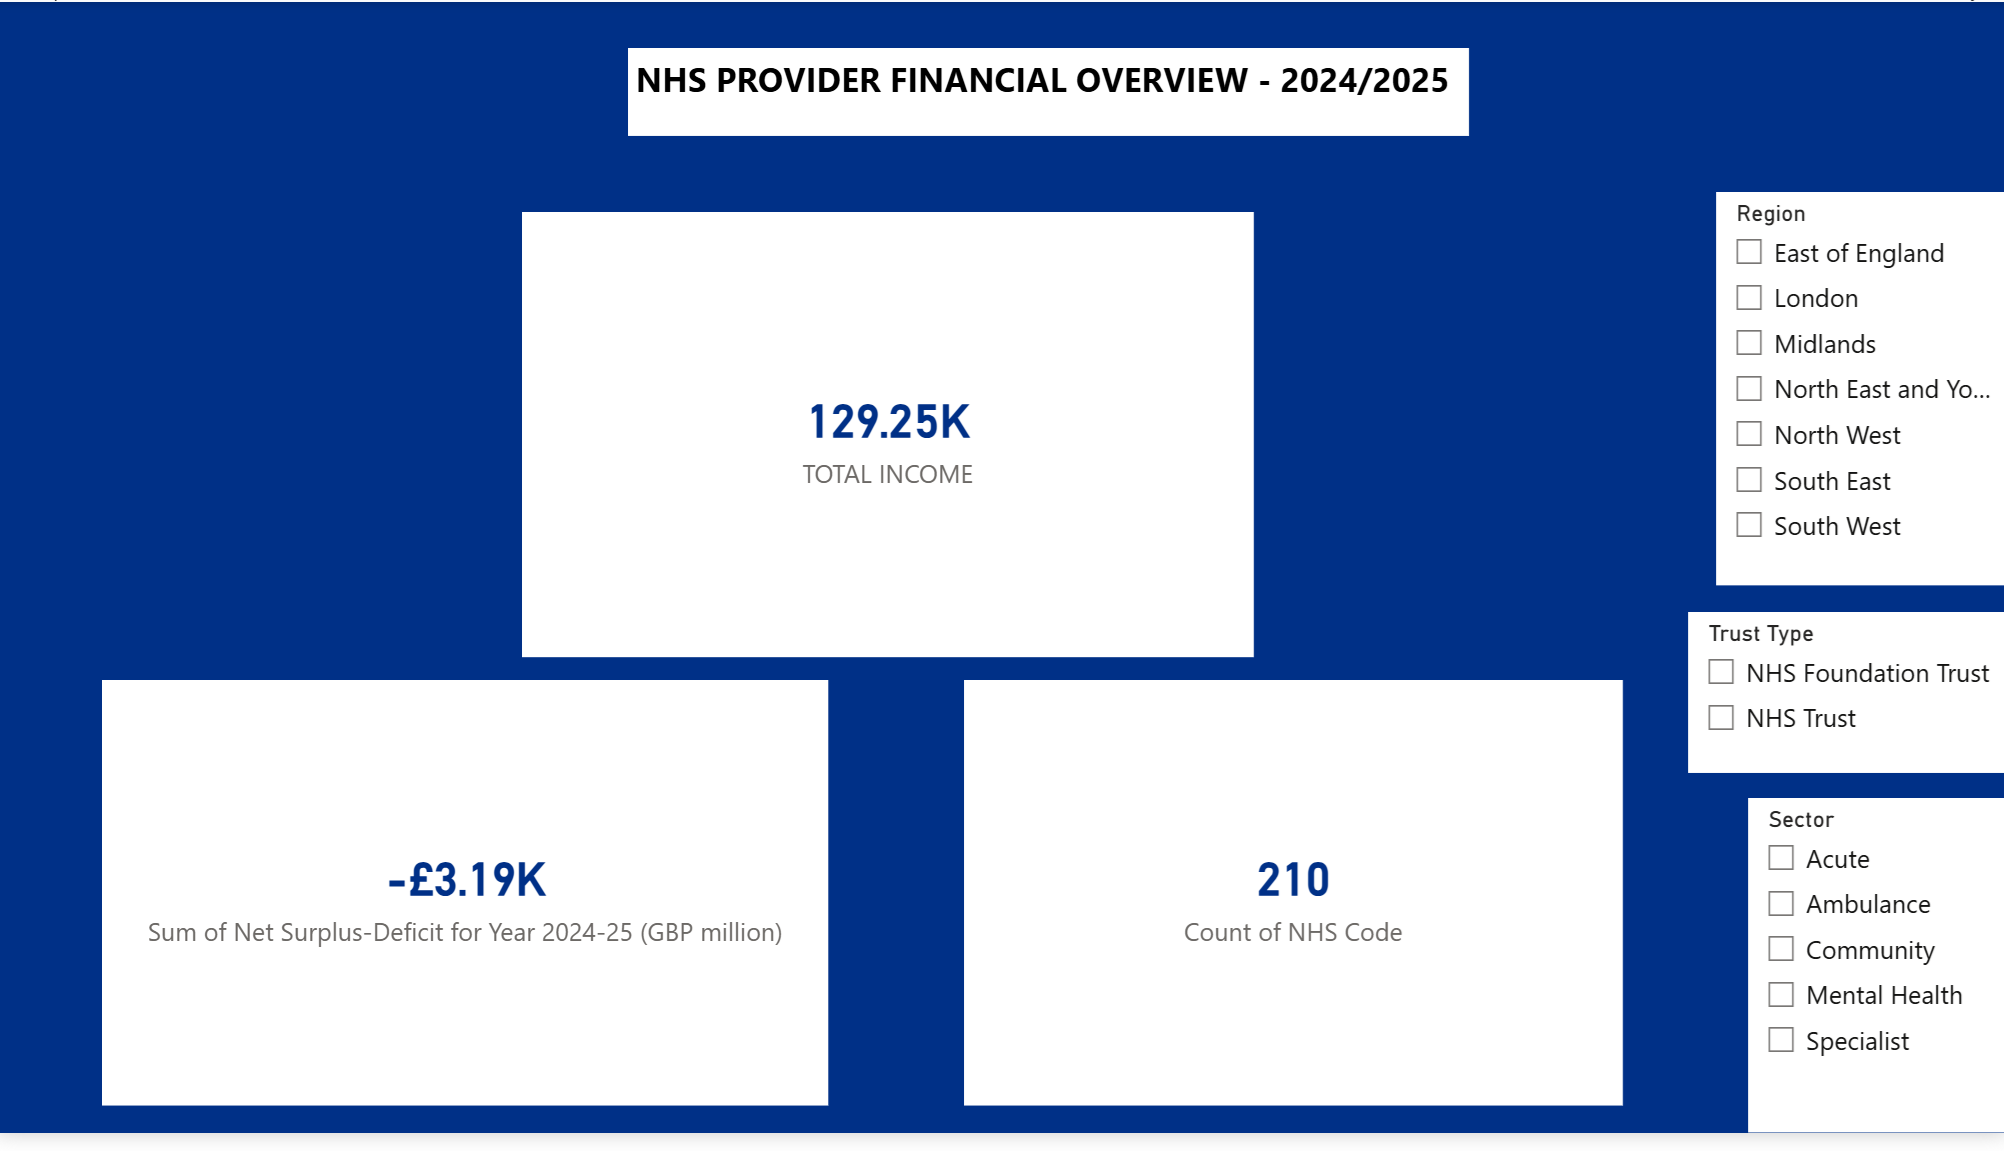

The page's visual inventory and layout, read from the dashboard file:
{"tool":"powerbi","page":{"name":"OVERVIEW","canvas":[1280,720],"ordinal":0},"visuals":[{"type":"card","fields":{"Values":["Sum(Summary by Trust.Net Surplus-Deficit for Year 2024-25 (GBP million))"]},"box":[68,432,462.6,271],"z":0},{"type":"card","fields":{"Values":["Income Statement Detail.TOTAL INCOME"]},"box":[334.5,133.8,466,283.4],"z":1000},{"type":"card","fields":{"Values":["Count(Summary by Trust.NHS Code)"]},"box":[616.8,432,419.5,271],"z":2000},{"type":"slicer","fields":{"Values":["Summary by Trust.Sector"]},"box":[1115.6,506.8,164.4,213.1],"z":3000},{"type":"slicer","fields":{"Values":["Summary by Trust.Trust Type"]},"box":[1077.5,388.9,202.5,102.6],"z":4000},{"type":"slicer","fields":{"Values":["Summary by Trust.Region"]},"box":[1094.9,121.2,185.1,250.4],"z":5000},{"type":"textbox","box":[402.2,29.3,535.4,55.9],"z":6000}]}

Visuals, with their boxes in screenshot pixels (x1, y1, x2, y2), scaled from the page's 1280x720 canvas onto the 2004x1151 screenshot:
card - Sum(Summary by Trust.Net Surplus-Deficit for Year 2024-25 (GBP million)): x1=106, y1=691, x2=831, y2=1124
card - Income Statement Detail.TOTAL INCOME: x1=524, y1=214, x2=1253, y2=667
card - Count(Summary by Trust.NHS Code): x1=966, y1=691, x2=1622, y2=1124
slicer - Summary by Trust.Sector: x1=1747, y1=810, x2=2003, y2=1150
slicer - Summary by Trust.Trust Type: x1=1687, y1=622, x2=2003, y2=786
slicer - Summary by Trust.Region: x1=1714, y1=194, x2=2003, y2=594
textbox: x1=630, y1=47, x2=1468, y2=136
